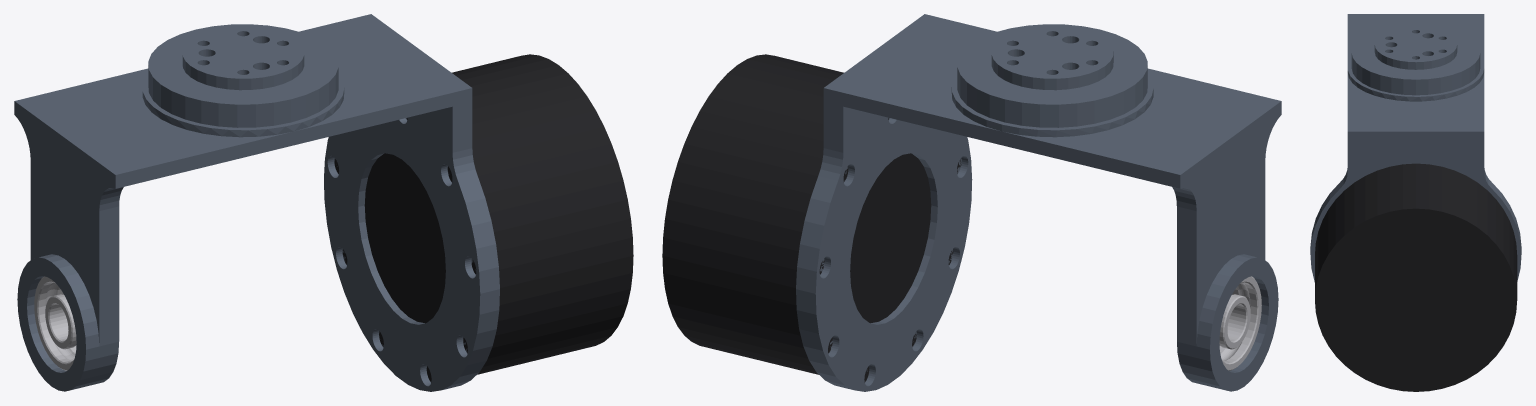
The model's file is hip_yaw_L.dae.
3 renders of one model, left to right at view 1: azimuth 30°, elevation 25°; view 2: azimuth 150°, elevation 25°; view 3: azimuth 270°, elevation 25°, orthographic. The views are drawn at different scales.
Parts seen in each view (by area): view 1: hip_yaw_L-printed, hip_yaw_L-motor, hip_yaw_L-steel; view 2: hip_yaw_L-printed, hip_yaw_L-motor, hip_yaw_L-steel; view 3: hip_yaw_L-motor, hip_yaw_L-printed.
Part boxes in pixels (box(x1,y1,x2,y2)): hip_yaw_L-printed: box(14, 14, 499, 391); hip_yaw_L-motor: box(334, 54, 633, 382); hip_yaw_L-steel: box(34, 276, 76, 370); hip_yaw_L-printed: box(796, 14, 1281, 391); hip_yaw_L-motor: box(662, 54, 961, 382); hip_yaw_L-steel: box(1219, 276, 1261, 370); hip_yaw_L-motor: box(1315, 163, 1517, 391); hip_yaw_L-printed: box(1310, 14, 1521, 282).
Bounding box in the file's own units: 0.1534 × 0.082 × 0.1059.
